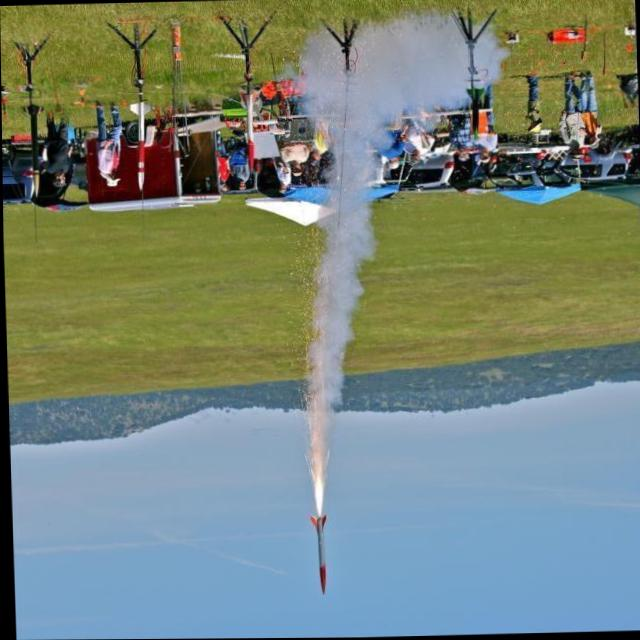missile: (293, 509, 332, 600)
